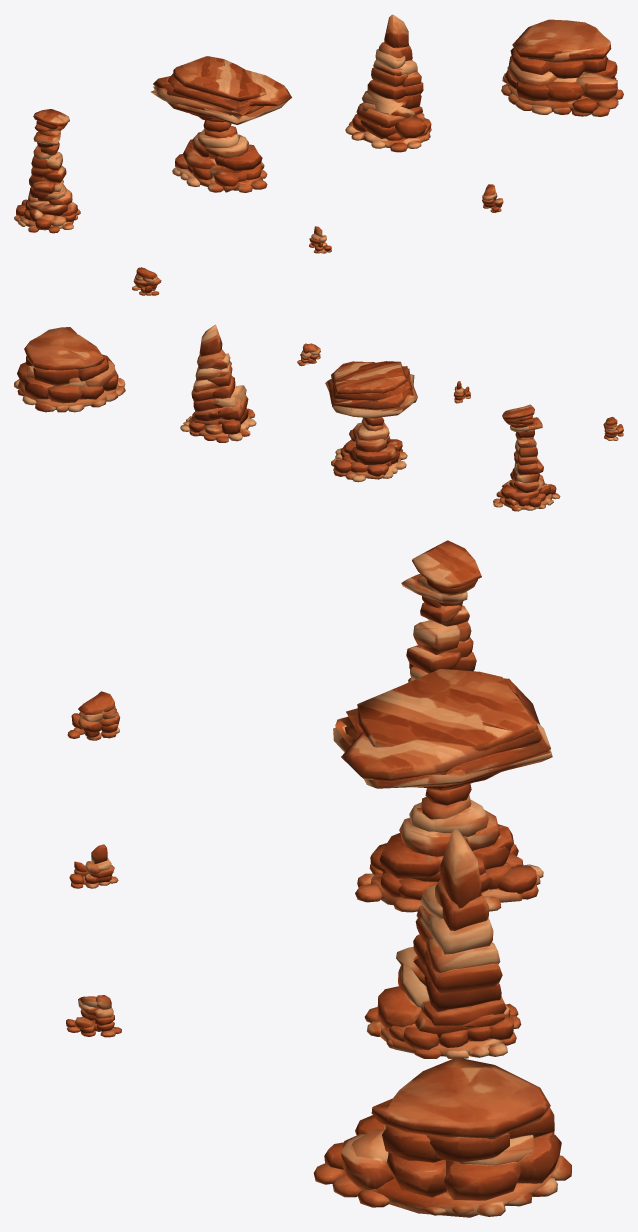
File: bones_pack_02_sandstone_clean.glb
3 renders of one model, top to bottom at view 1: azimuth 30°, elevation 25°; view 2: azimuth 150°, elevation 25°; view 3: azimuth 270°, elevation 25°, orthographic. The views are drawn at different scales.
Visible parts, largest first — view 1: sand_spire_b, sand_mesa, sand_spire_c, sand_spire_a, sand_rock_a, sand_rock_c, sand_rock_b; view 2: sand_spire_b, sand_mesa, sand_spire_c, sand_spire_a, sand_rock_c, sand_rock_a; view 3: sand_spire_b, sand_mesa, sand_spire_c, sand_spire_a, sand_rock_a, sand_rock_c, sand_rock_b.
Part boxes in pixels (box(x1,y1,x2,y2)): sand_spire_b: box(151, 56, 291, 192); sand_mesa: box(501, 19, 623, 116); sand_spire_c: box(345, 14, 431, 152); sand_spire_a: box(14, 109, 80, 233); sand_rock_a: box(132, 267, 161, 295); sand_rock_c: box(482, 184, 503, 212); sand_rock_b: box(309, 226, 331, 253); sand_spire_b: box(325, 361, 417, 482); sand_mesa: box(14, 327, 125, 412); sand_spire_c: box(180, 324, 256, 442); sand_spire_a: box(493, 404, 560, 511); sand_rock_c: box(297, 343, 320, 366); sand_rock_a: box(603, 417, 623, 440); sand_spire_b: box(333, 669, 552, 912); sand_mesa: box(313, 1057, 571, 1217); sand_spire_c: box(364, 828, 521, 1058); sand_spire_a: box(401, 540, 481, 682); sand_rock_a: box(67, 691, 120, 740); sand_rock_c: box(66, 995, 121, 1037); sand_rock_b: box(69, 844, 118, 888).
Size of the model in its own units: 26.77 by 5 by 11.19.
Materials: 1 (1 with a texture image).
